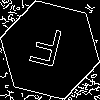F: (25, 25, 65, 77)
